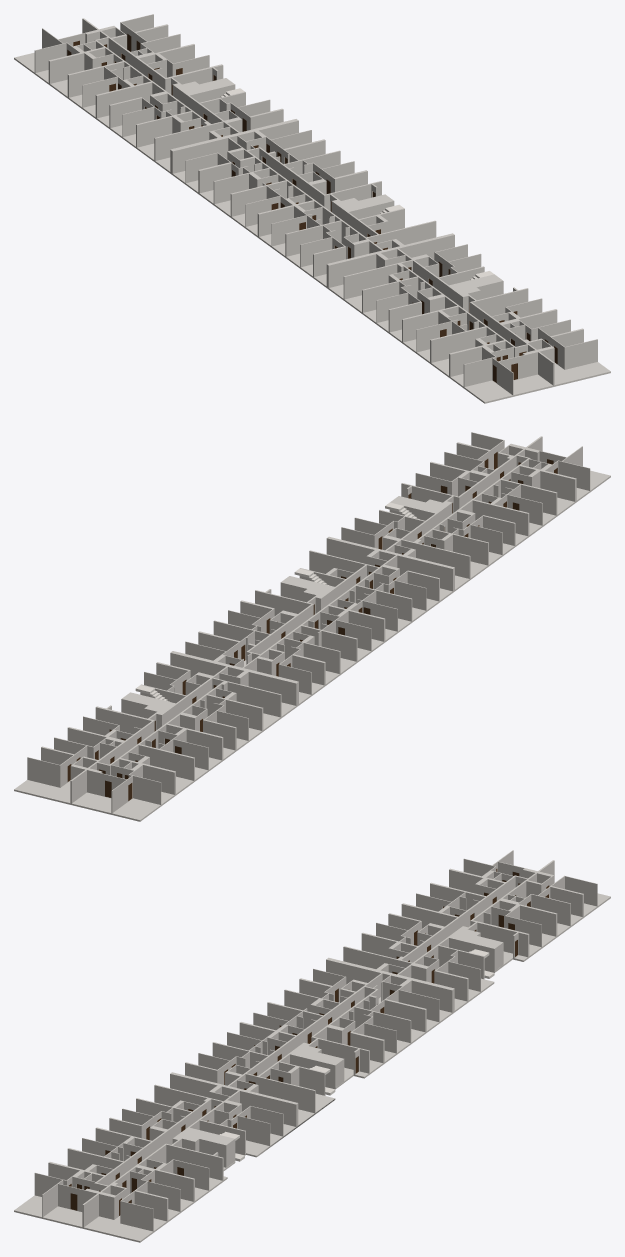
Rendered from floor_3_int.FBX.
3 views of the same model, one above another, from view 1: azimuth 30°, elevation 25°; view 2: azimuth 150°, elevation 25°; view 3: azimuth 330°, elevation 25° (orthographic).
Parts seen in each view (by area): view 1: floor_3_int; view 2: floor_3_int; view 3: floor_3_int.
Part boxes in pixels (x1,y1,x2,y2): floor_3_int: (14, 14, 610, 403); floor_3_int: (14, 432, 610, 821); floor_3_int: (14, 850, 610, 1242).
Bounding box in the file's own units: 16.5 × 3.31 × 107.
